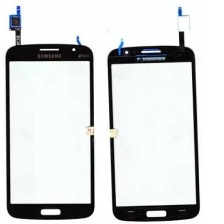phone: (104, 42, 203, 223), (3, 41, 95, 221)
